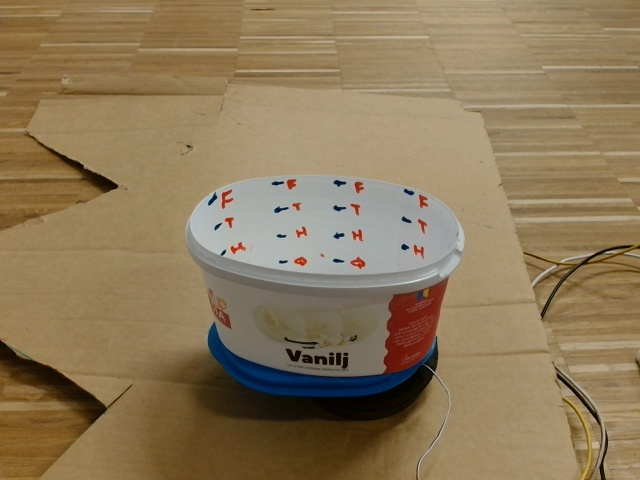Big_zero: (188, 171, 467, 295)
